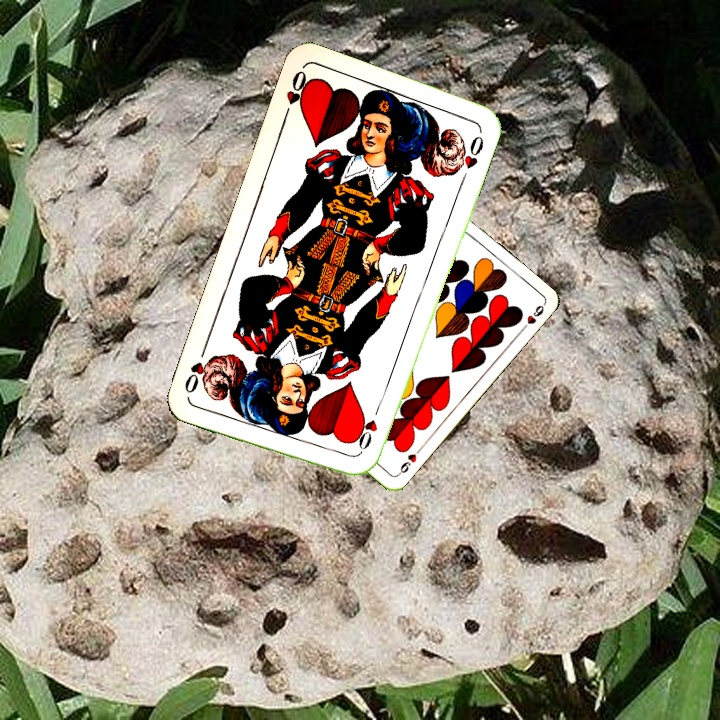H9: (394, 444, 424, 478)
HO: (279, 66, 314, 122), (354, 400, 383, 457)
